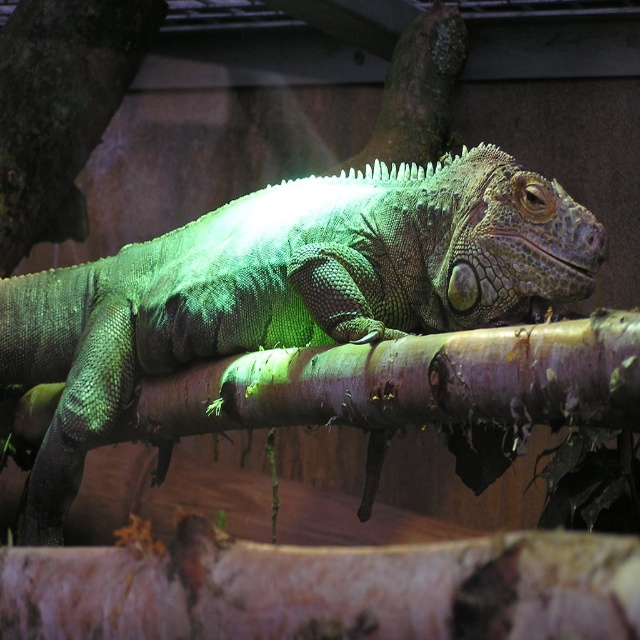Lizard: (0, 122, 612, 555)
